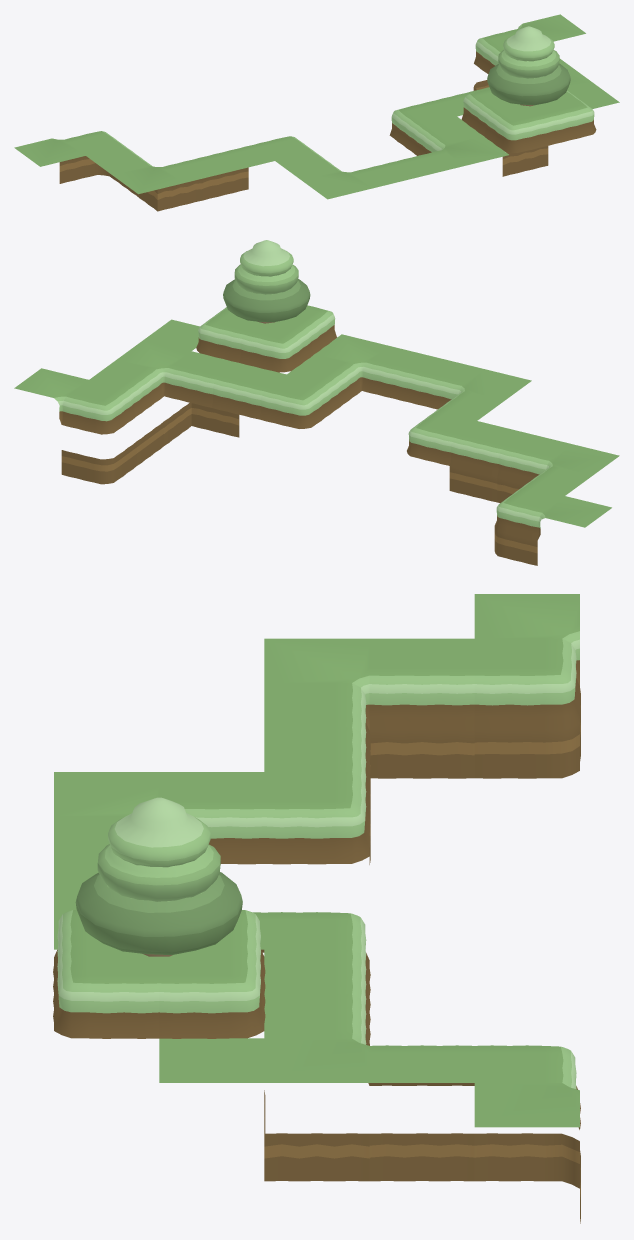
The model's file is DayGrassBlocks.glb.
The picture shows the model from 3 angles, top to bottom: view 1: azimuth 30°, elevation 25°; view 2: azimuth 150°, elevation 25°; view 3: azimuth 270°, elevation 25°; orthographic projection. The views are drawn at different scales.
Visible parts, largest first — view 1: U-Shaped Grass, Grass Island, Tree, Long Inner Edge Grass Block, Long Edge Grass Block, Long Outer Edge Grass Block, Long Isolated Grass Block, Under Inner Edge Grass Block, Outer Edge Grass Block, Isolated Grass Block, Flat Grass Block, Edge Grass Block (+1 smaller); view 2: U-Shaped Grass, Grass Island, Inner Edge Grass Block, Long Inner Edge Grass Block, Tree, Long Edge Grass Block, Long Outer Edge Grass Block, Outer Edge Grass Block, Edge Grass Block, Under Outer Edge Grass Block, Under Inner Edge Grass Block, Isolated Grass Block (+3 smaller); view 3: U-Shaped Grass, Long Inner Edge Grass Block, Grass Island, Tree, Long Outer Edge Grass Block, Inner Edge Grass Block, Under Inner Edge Grass Block, Under Outer Edge Grass Block, Under Edge Grass Block, Long Isolated Grass Block, Long Edge Grass Block, Edge Grass Block (+3 smaller).
Boxes of the visible parts, x1,y1,x2,y2 form: U-Shaped Grass: (253,100,508,199); Grass Island: (461,89,596,152); Tree: (487,26,570,106); Long Inner Edge Grass Block: (86,146,228,211); Long Edge Grass Block: (203,145,274,200); Long Outer Edge Grass Block: (59,131,131,191); Long Isolated Grass Block: (14,138,85,166); Under Inner Edge Grass Block: (502,146,548,176); Outer Edge Grass Block: (474,29,519,73); Isolated Grass Block: (518,14,585,41); Flat Grass Block: (567,83,619,108); Edge Grass Block: (435,89,481,116); U-Shaped Grass: (259,334,531,465); Grass Island: (196,305,336,372); Inner Edge Grass Block: (89,339,238,415); Long Inner Edge Grass Block: (497,432,619,502); Tree: (223,240,310,323); Long Edge Grass Block: (449,421,524,502); Long Outer Edge Grass Block: (494,486,564,565); Outer Edge Grass Block: (61,380,136,434); Edge Grass Block: (211,363,286,419); Under Outer Edge Grass Block: (61,441,136,484); Under Inner Edge Grass Block: (164,403,239,445); Isolated Grass Block: (14,368,88,424); U-Shaped Grass: (54,772,370,996); Long Inner Edge Grass Block: (264,638,474,781); Grass Island: (53,910,265,1038); Tree: (75,797,242,956); Long Outer Edge Grass Block: (474,638,580,778); Inner Edge Grass Block: (264,994,474,1085); Under Inner Edge Grass Block: (264,1090,369,1181); Under Outer Edge Grass Block: (474,1133,580,1223); Under Edge Grass Block: (369,1133,474,1181); Long Isolated Grass Block: (474,594,579,685); Long Edge Grass Block: (264,727,370,864); Edge Grass Block: (264,949,370,1041).
Size of the model in its own units: 24 by 7.08 by 10.04.
Materials: 2 (2 with a texture image).
